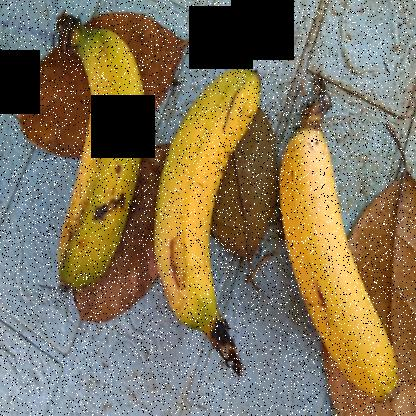freshripe: (277, 114, 413, 415)
ripe: (146, 54, 258, 354), (44, 0, 140, 312)
